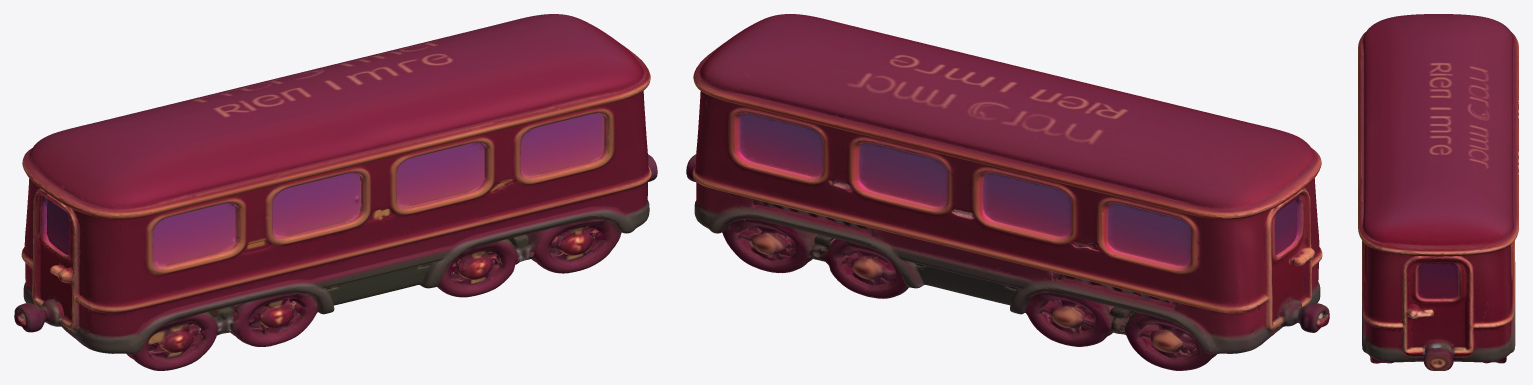
The model's file is carriage.glb.
The picture shows the model from 3 angles, left to right: view 1: azimuth 30°, elevation 25°; view 2: azimuth 150°, elevation 25°; view 3: azimuth 270°, elevation 25°; orthographic projection. The views are drawn at different scales.
Visible parts, largest first — view 1: carriage; view 2: carriage; view 3: carriage.
Part boxes in pixels (x1=…): carriage: x1=14, y1=14, x2=657, y2=370; carriage: x1=686, y1=14, x2=1329, y2=370; carriage: x1=1358, y1=14, x2=1518, y2=370.
Bounding box in the file's own units: 10.8 × 3.39 × 2.92.
1 material, 1 textured.
